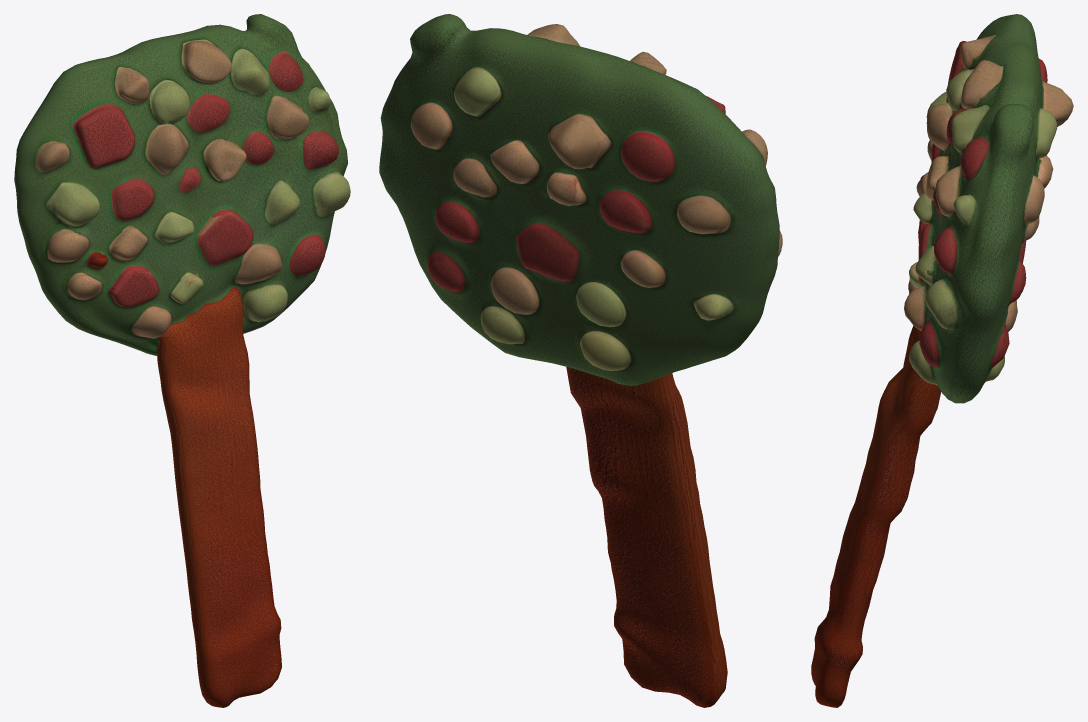
Rendered from stylized-tree-a.glb.
The picture shows the model from 3 angles, left to right: view 1: azimuth 30°, elevation 25°; view 2: azimuth 150°, elevation 25°; view 3: azimuth 270°, elevation 25°; orthographic projection. The views are drawn at different scales.
Visible parts, largest first — view 1: tripo_node_d2a9cd3a-0eb7-437a-ab82-2f6deeef8a2c; view 2: tripo_node_d2a9cd3a-0eb7-437a-ab82-2f6deeef8a2c; view 3: tripo_node_d2a9cd3a-0eb7-437a-ab82-2f6deeef8a2c.
Boxes of the visible parts, box(x1,y1,x2,y2) form: tripo_node_d2a9cd3a-0eb7-437a-ab82-2f6deeef8a2c: box(14, 14, 350, 707); tripo_node_d2a9cd3a-0eb7-437a-ab82-2f6deeef8a2c: box(379, 14, 782, 707); tripo_node_d2a9cd3a-0eb7-437a-ab82-2f6deeef8a2c: box(811, 14, 1073, 707).
Size of the model in its own units: 0.5564 by 0.978 by 0.3555.
Materials: 1 (1 with a texture image).
